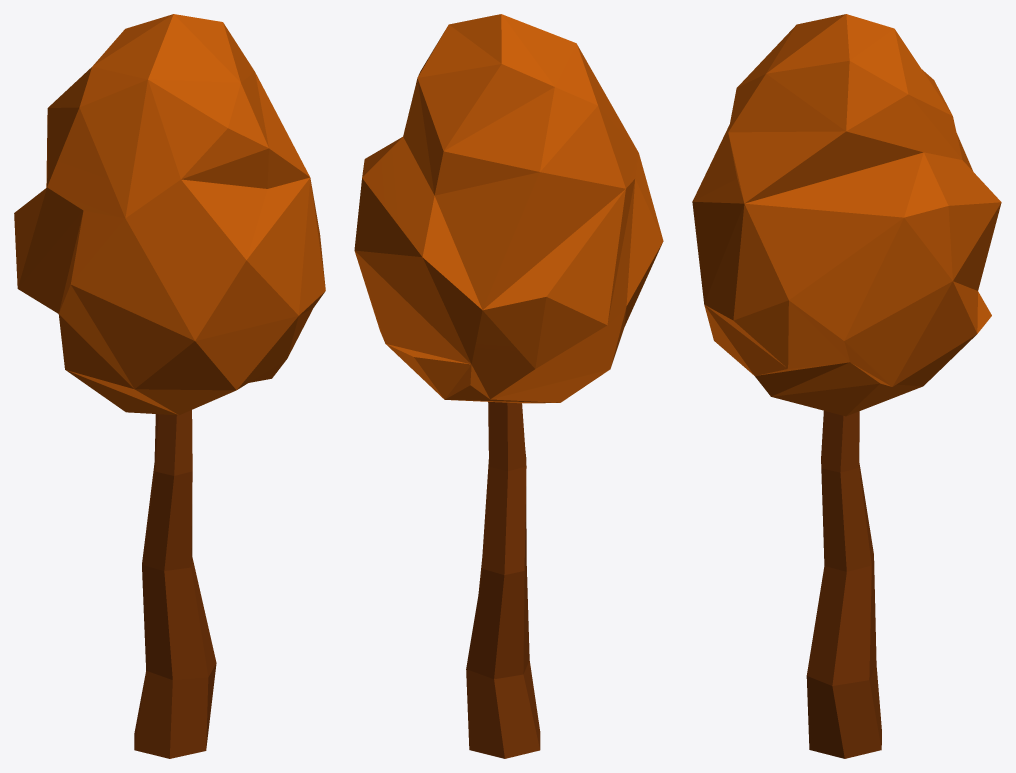
The model's file is Tree_2_Orange.fbx.
3 renders of one model, left to right at view 1: azimuth 30°, elevation 25°; view 2: azimuth 150°, elevation 25°; view 3: azimuth 270°, elevation 25°, orthographic.
Visible parts, largest first — view 1: pCube1, pCylinder1; view 2: pCube1, pCylinder1; view 3: pCube1, pCylinder1.
Part boxes in pixels (box(x1,y1,x2,y2)): pCube1: box(14, 14, 325, 415); pCylinder1: box(134, 410, 216, 758); pCube1: box(354, 14, 663, 403); pCylinder1: box(466, 402, 540, 758); pCube1: box(692, 14, 1001, 416); pCylinder1: box(806, 411, 881, 758).
Bounding box in the file's own units: 324 × 857 × 330.
